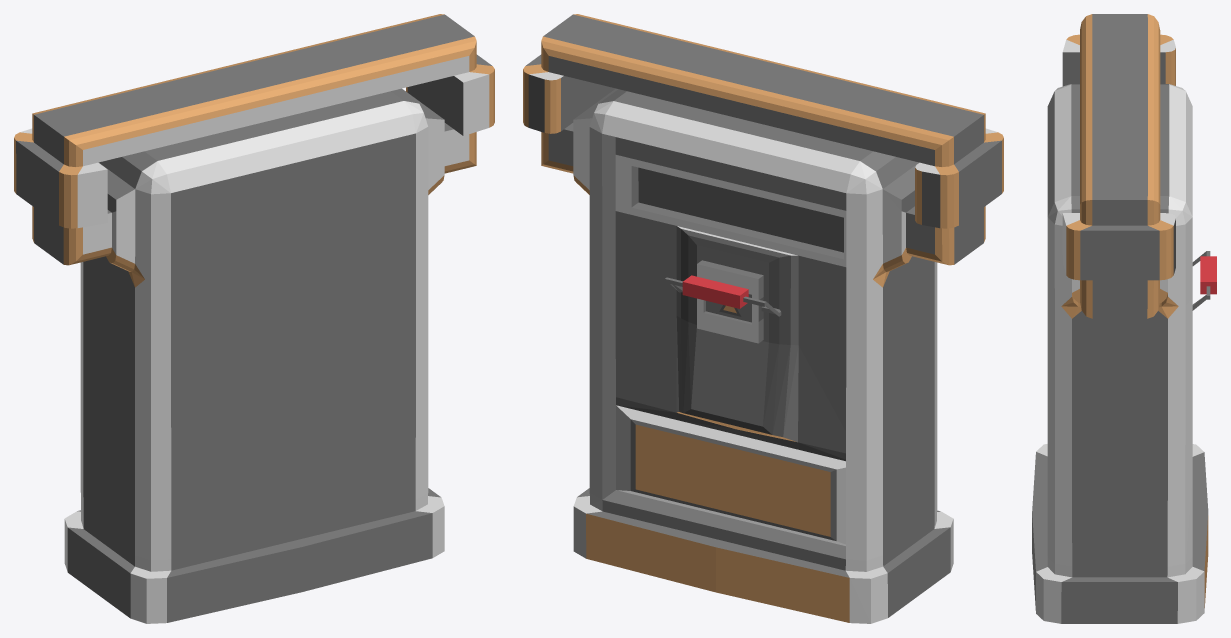
File: MS_Switch_ON.fbx
The picture shows the model from 3 angles, left to right: view 1: azimuth 30°, elevation 25°; view 2: azimuth 150°, elevation 25°; view 3: azimuth 270°, elevation 25°; orthographic projection. The views are drawn at different scales.
Parts seen in each view (by area): view 1: MS_Switch_ON; view 2: MS_Switch_ON; view 3: MS_Switch_ON.
Part boxes in pixels (x1,y1,x2,y2): MS_Switch_ON: [14, 14, 494, 623]; MS_Switch_ON: [523, 14, 1003, 623]; MS_Switch_ON: [1032, 14, 1216, 623].
Size of the model in its own units: 2.24 by 2.38 by 0.8914.
